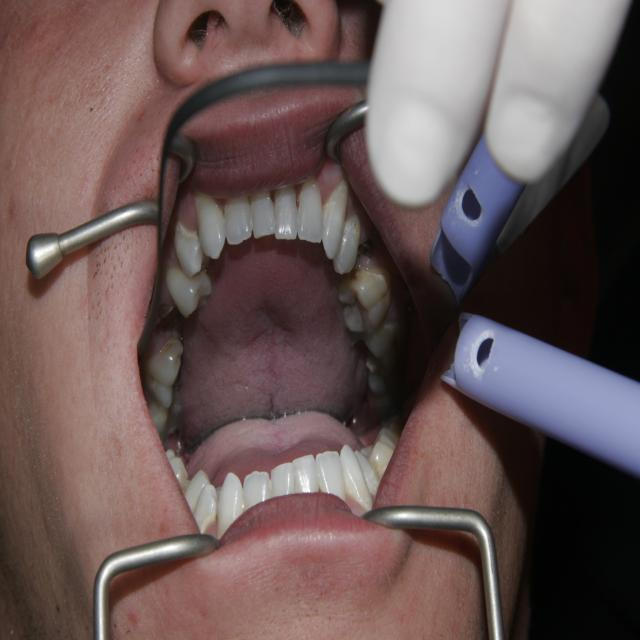tooth: (141, 328, 194, 415), (159, 252, 219, 325), (338, 263, 396, 337), (165, 215, 219, 284), (316, 173, 353, 262), (189, 189, 232, 262), (219, 185, 260, 253), (294, 172, 328, 253), (269, 175, 304, 248), (145, 388, 186, 444), (246, 180, 282, 243), (333, 210, 361, 284), (360, 314, 401, 360), (364, 371, 399, 412)
